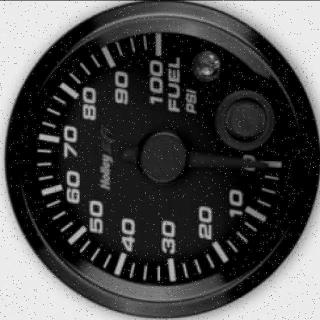gauge: (0, 0, 320, 320), (137, 130, 189, 182), (136, 22, 182, 66), (247, 145, 291, 185), (254, 157, 272, 173)
